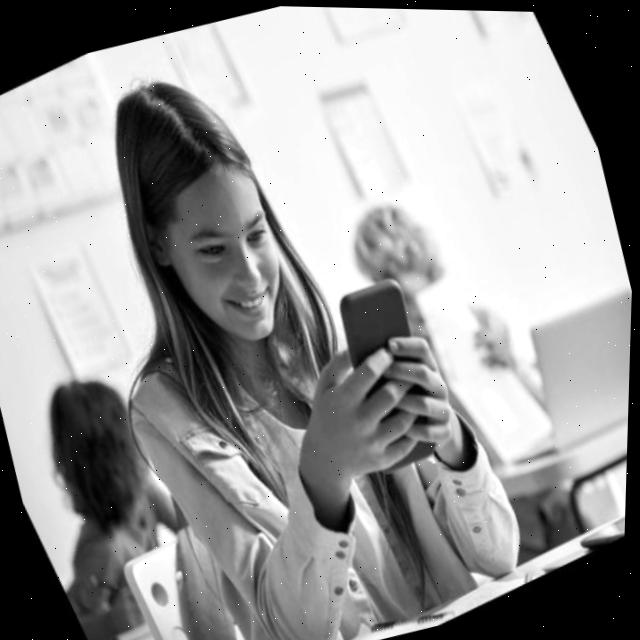phone: (297, 254, 483, 487)
